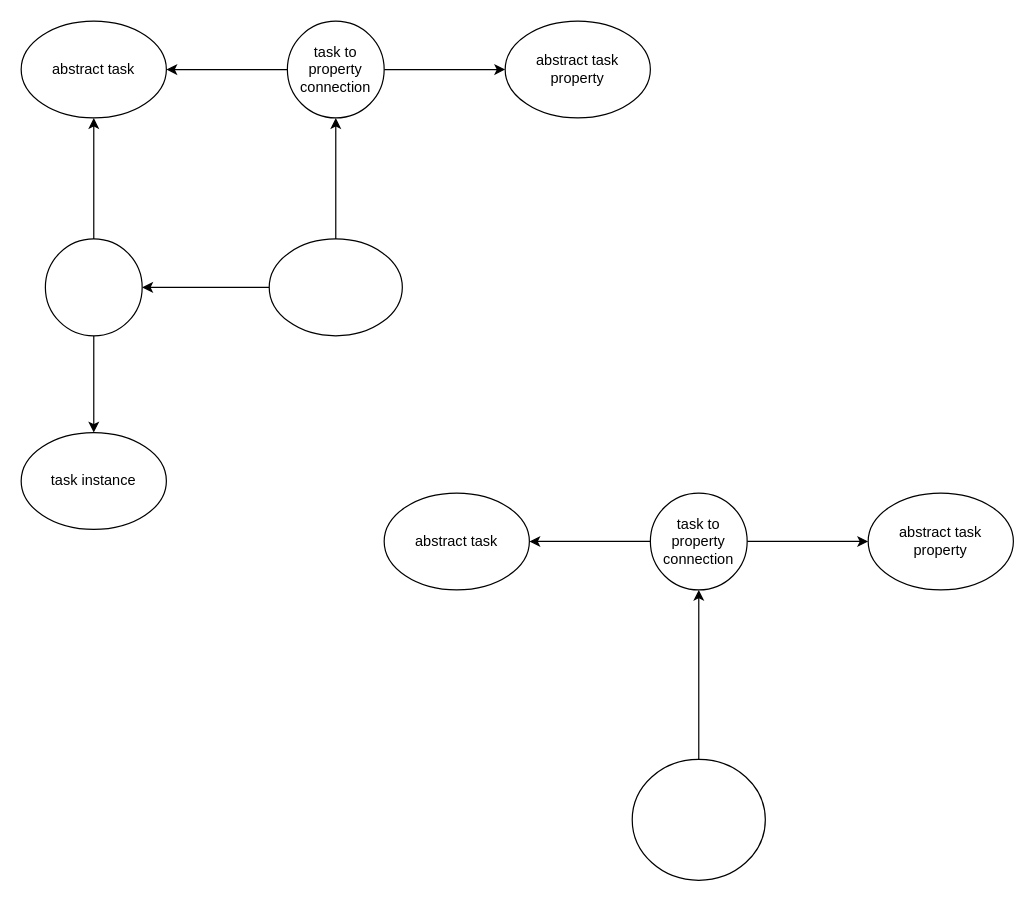
This 1035x901 diagram has some shape labels left out. Each missing label, with the box of its shape:
instantiated task to property connection: (631, 758, 765, 880)
task property instance: (268, 238, 402, 336)
task to instance connection: (44, 238, 142, 336)
